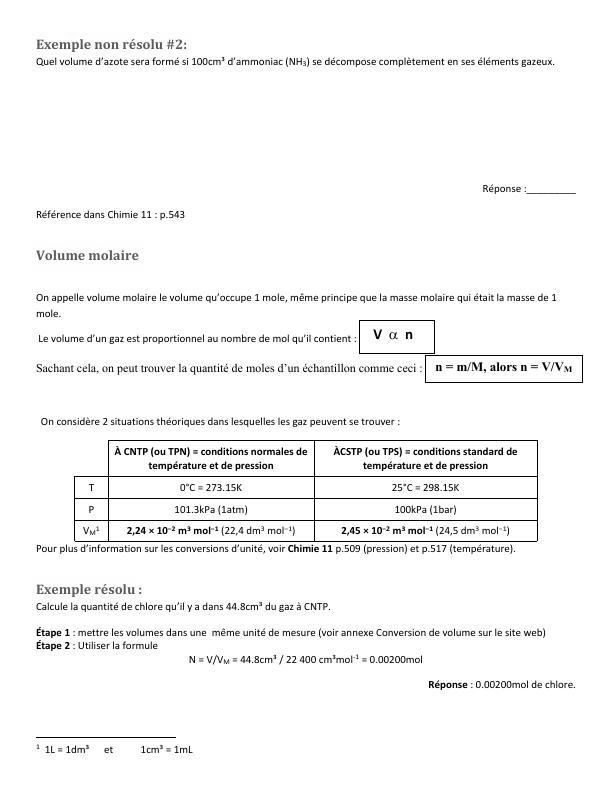input: (526, 180, 578, 203)
table: (66, 435, 541, 544)
text: (31, 290, 590, 389), (31, 621, 581, 698), (33, 36, 563, 74), (28, 580, 336, 614), (31, 543, 518, 561), (34, 410, 405, 433), (27, 202, 193, 226), (34, 738, 208, 756), (35, 244, 141, 270), (479, 180, 524, 199)
